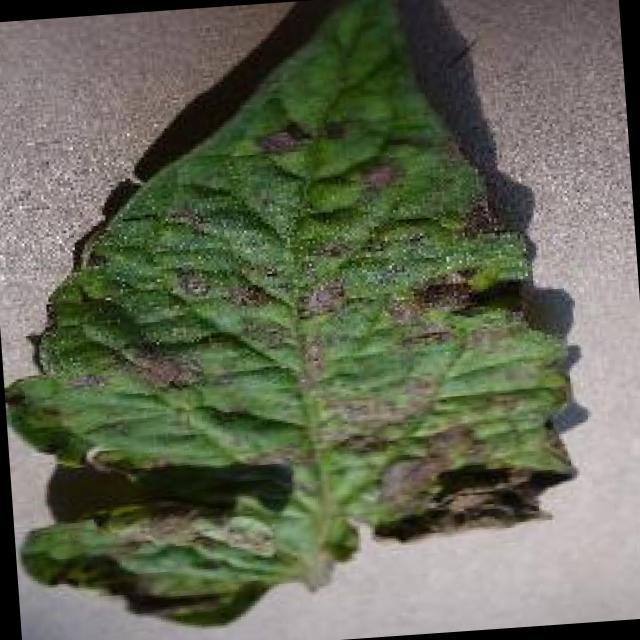Tomato_Early_Blight: (1, 213, 594, 588)
